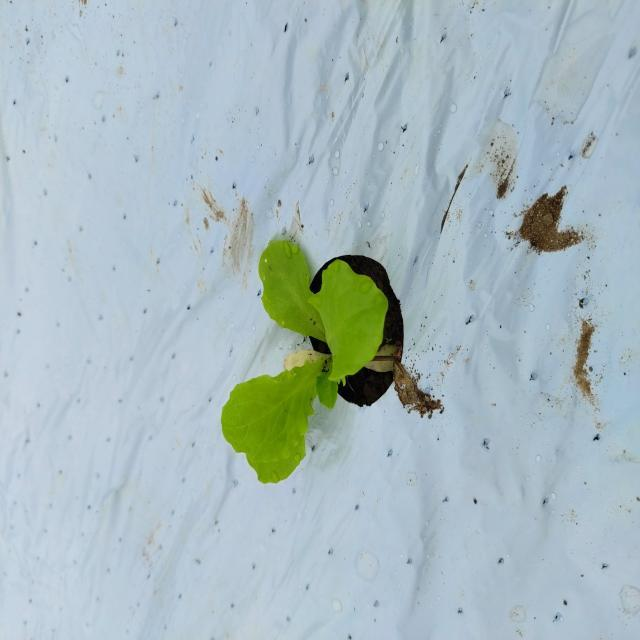Lettuce-Not-Ready-to-Harvest: (222, 240, 388, 481)
